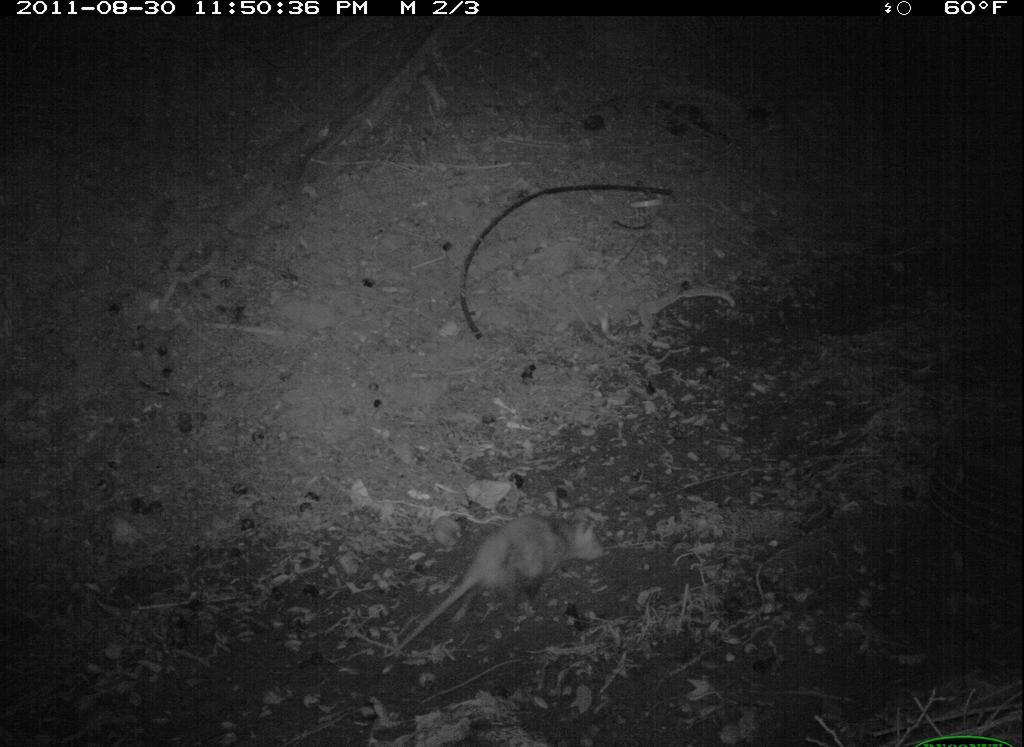opossum: (383, 510, 611, 652)
